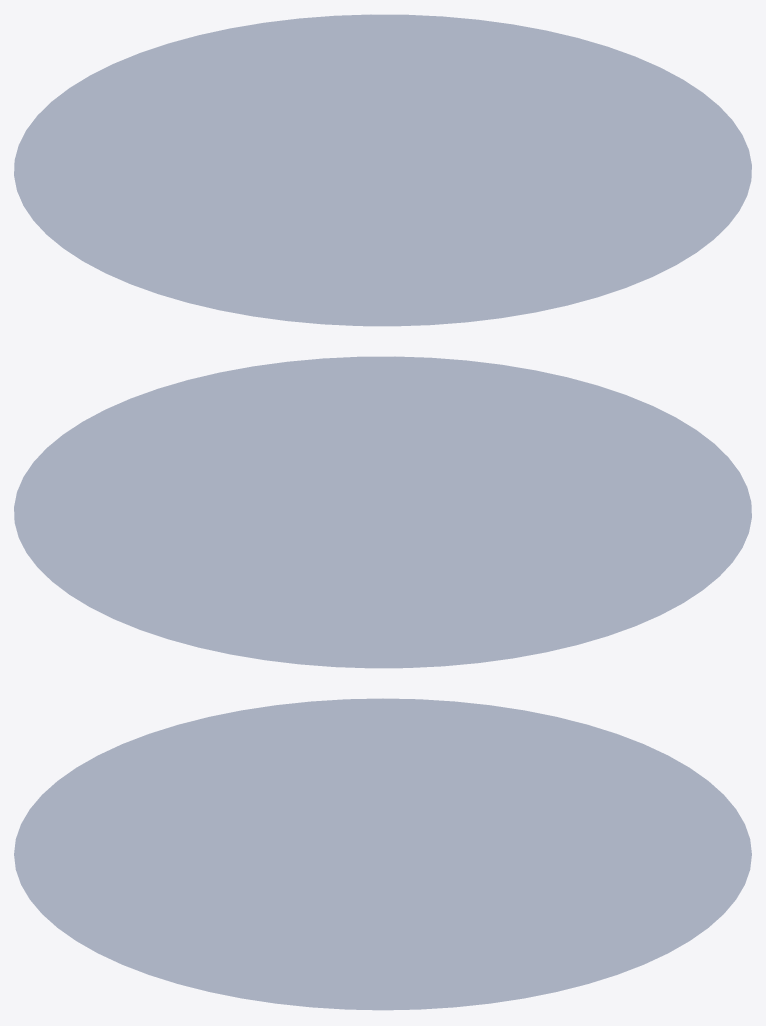
Rendered from test_platform.glb.
The picture shows the model from 3 angles, top to bottom: view 1: azimuth 30°, elevation 25°; view 2: azimuth 150°, elevation 25°; view 3: azimuth 270°, elevation 25°; orthographic projection.
Parts seen in each view (by area): view 1: test_platform; view 2: test_platform; view 3: test_platform.
Boxes of the visible parts, x1,y1,x2,y2 form: test_platform: (14, 14, 751, 326); test_platform: (14, 356, 751, 668); test_platform: (14, 698, 751, 1010).
Bounding box in the file's own units: 300 × 0.5 × 300.
